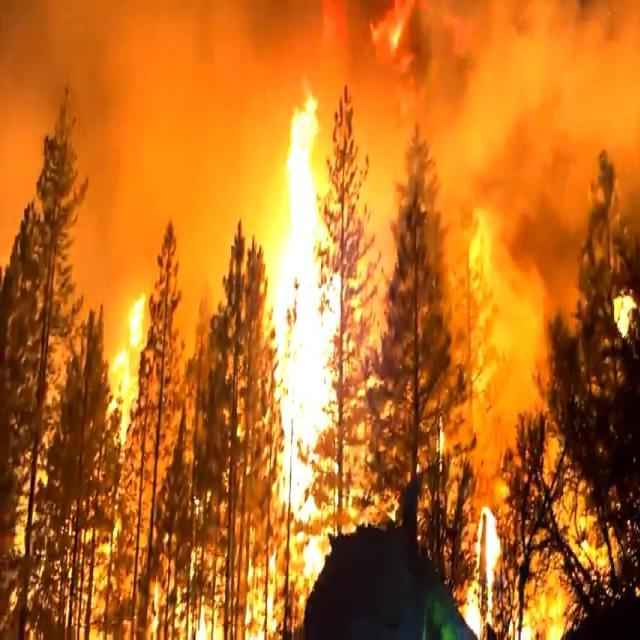Fire: (270, 84, 334, 558), (462, 488, 514, 637), (110, 288, 145, 412)
